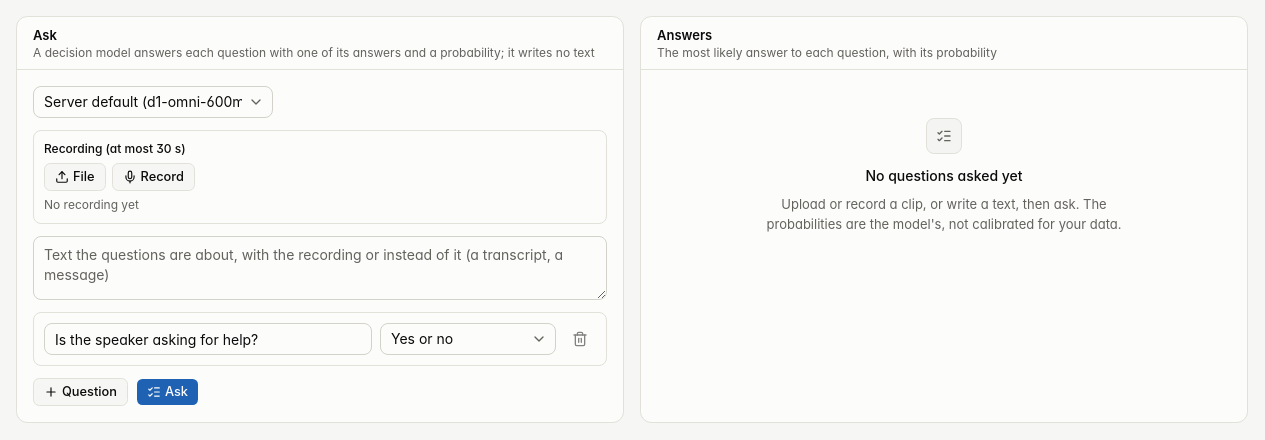
Scenario: Decisions page › says what is missing before asking
The width and height of the screenshot is (1265, 440).
Step 1. Click the button with test id "decision-ask" → (168, 392), box [136, 378, 199, 406]
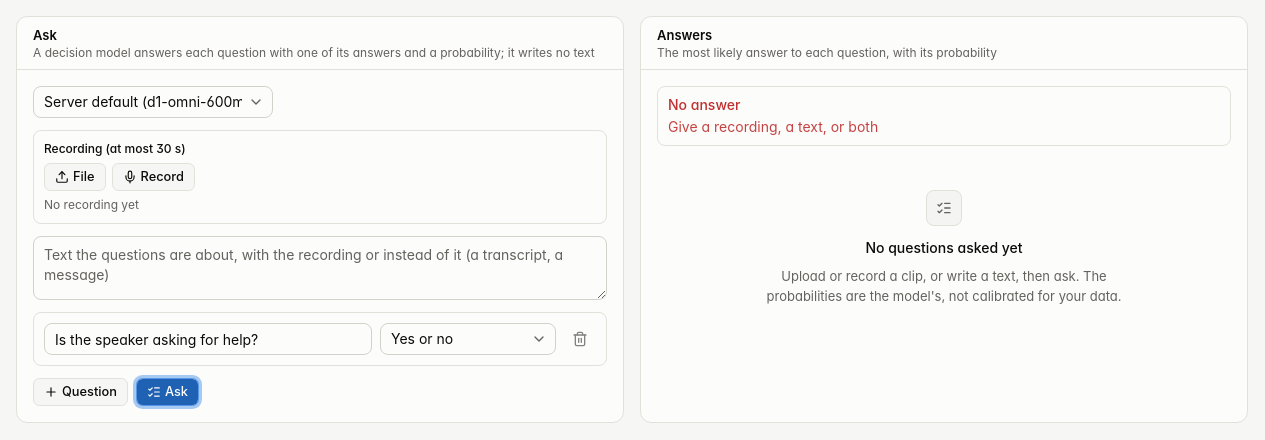
expect the message with test id "decision-error" shows "Give a recording, a text, or both": met, box [668, 118, 878, 135]
